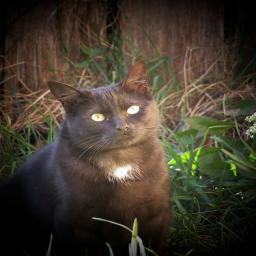catnose: (114, 123, 131, 133)
